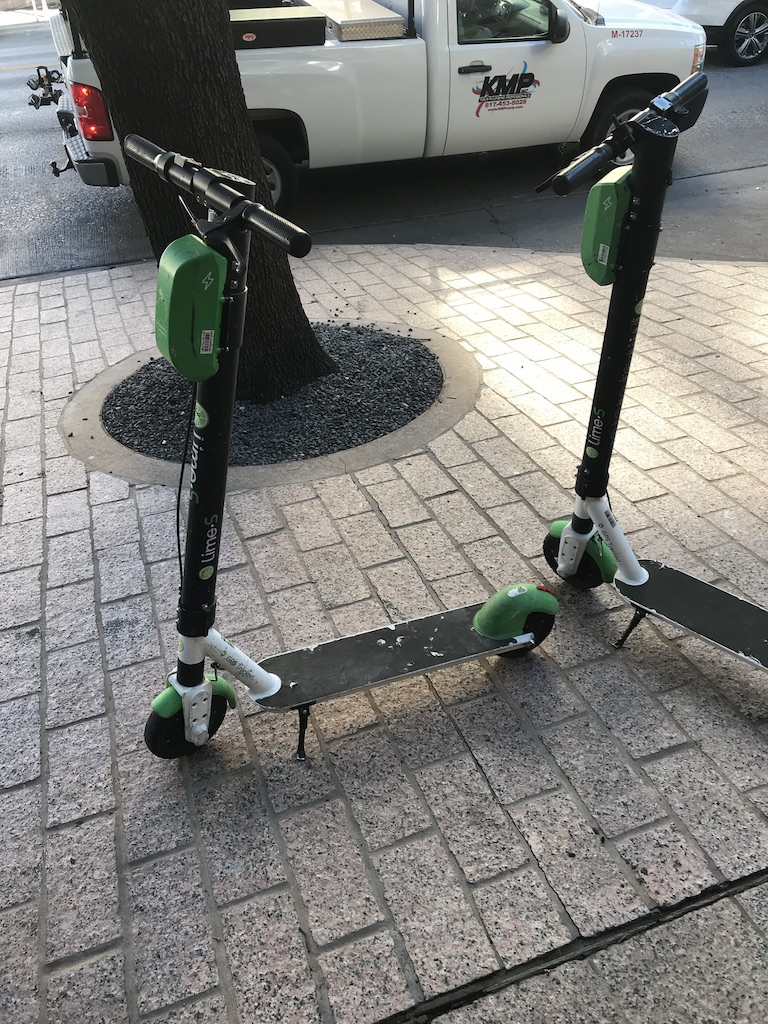scooter: (121, 134, 560, 761), (542, 73, 763, 673)
